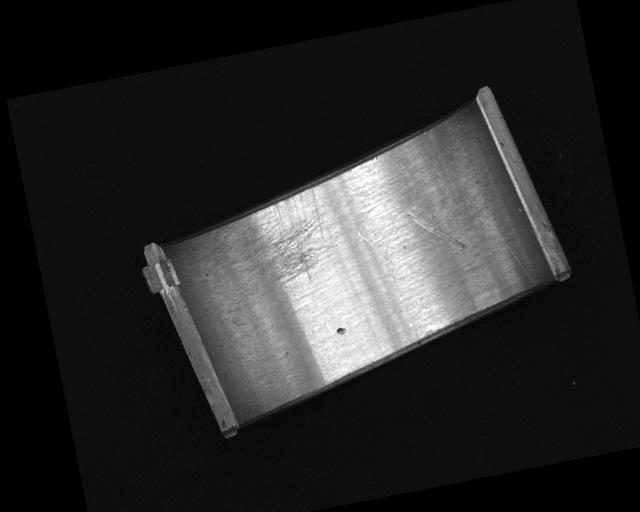bruise: (334, 324, 348, 336)
nick: (353, 223, 420, 351), (476, 198, 536, 296), (409, 204, 466, 258), (395, 157, 418, 217)
scratch: (205, 186, 343, 299)
